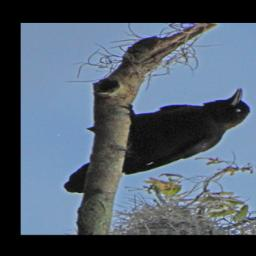Crow: (57, 87, 254, 194)
